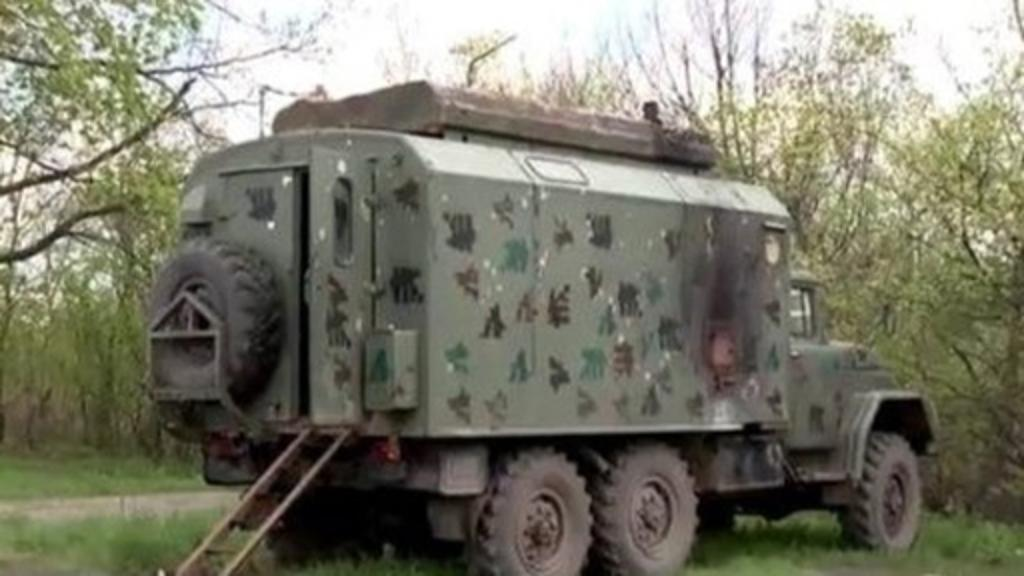TRUCK: (140, 70, 940, 574)
